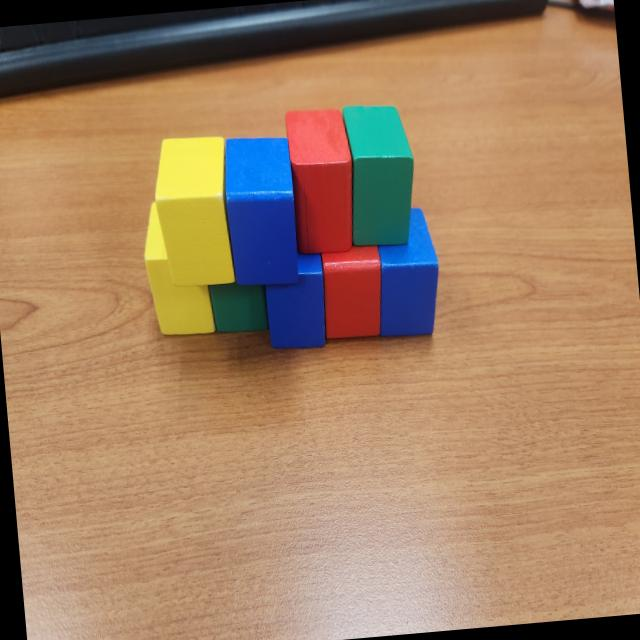blue: (220, 132, 302, 289), (368, 205, 446, 341), (260, 250, 330, 352)
green: (341, 99, 422, 249), (207, 279, 270, 335)
red: (284, 104, 360, 256), (318, 243, 387, 340)
yellow: (150, 132, 236, 288), (138, 197, 218, 340)
